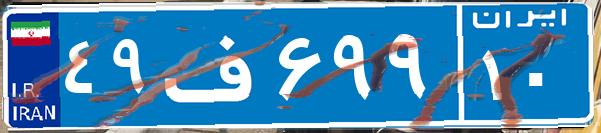0: (525, 38, 570, 115)
1: (475, 38, 525, 113)
4: (57, 26, 110, 107)
6: (273, 28, 330, 110)
9: (385, 28, 445, 110), (330, 28, 385, 110), (110, 28, 158, 105)
ف: (158, 15, 273, 115)
